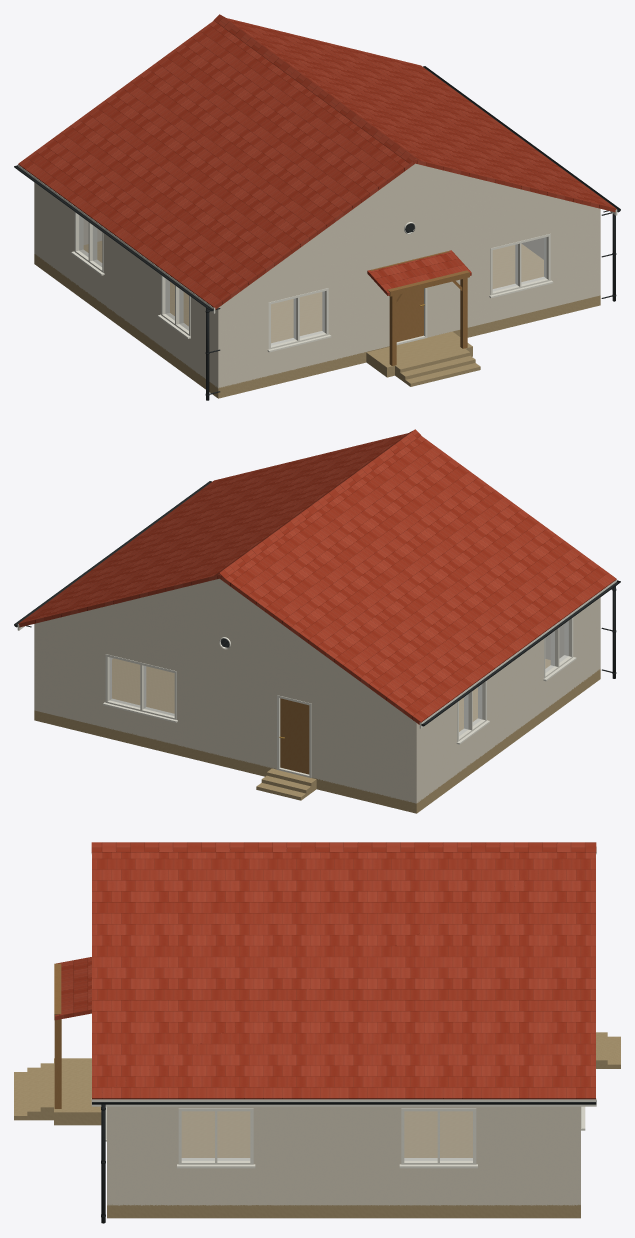
Rendered from bungalow_far.glb.
3 renders of one model, top to bottom at view 1: azimuth 30°, elevation 25°; view 2: azimuth 150°, elevation 25°; view 3: azimuth 270°, elevation 25°, orthographic. The views are drawn at different scales.
Visible parts, largest first — view 1: Main roof closed pitched roof slab, Main house hollow wall shell with actual openings, Grounded continuous foundation and floor, Main roof finite ridge cap, Main house Front right window finite glazing, Main house Front left window finite glazing, Porch closed pitched canopy, Porch grounded landing, Main house Front entrance closed finite door leaf, Main house Front left window finite seated frame, Main house Front right window finite seated frame, Main house left window 1 finite seated frame (+12 smaller); view 2: Main roof closed pitched roof slab, Main house hollow wall shell with actual openings, Grounded continuous foundation and floor, Main house Rear picture window finite glazing, Main roof finite ridge cap, Main house Rear garden door closed finite door leaf, Main house Rear picture window finite seated frame, Main house left window 0 finite seated frame, Main house left window 1 finite seated frame, Eaves -1 open finite gutter with outlet, Main house Rear garden door finite seated frame, Main house left window 0 finite glazing (+3 smaller); view 3: Main roof closed pitched roof slab, Main house hollow wall shell with actual openings, Grounded continuous foundation and floor, Main roof finite ridge cap, Main house right window 1 finite glazing, Main house right window 0 finite glazing, Main roof seated eave fascia 1, Porch grounded landing, Porch closed pitched canopy, Eaves 1 open finite gutter with outlet, Main house right window 0 finite seated frame, Main house right window 1 finite seated frame (+5 smaller).
Part boxes in pixels (x1=…): Main roof closed pitched roof slab: x1=18, y1=18, x2=616, y2=309; Main house hollow wall shell with actual openings: x1=34, y1=163, x2=600, y2=388; Grounded continuous foundation and floor: x1=34, y1=223, x2=600, y2=398; Main roof finite ridge cap: x1=213, y1=14, x2=421, y2=164; Main house Front right window finite glazing: x1=493, y1=237, x2=546, y2=291; Main house Front left window finite glazing: x1=271, y1=291, x2=324, y2=345; Porch closed pitched canopy: x1=367, y1=250, x2=471, y2=295; Porch grounded landing: x1=366, y1=331, x2=472, y2=377; Main house Front entrance closed finite door leaf: x1=396, y1=288, x2=423, y2=341; Main house Front left window finite seated frame: x1=268, y1=288, x2=328, y2=349; Main house Front right window finite seated frame: x1=490, y1=233, x2=550, y2=295; Main house left window 1 finite seated frame: x1=74, y1=212, x2=103, y2=272; Main roof closed pitched roof slab: x1=18, y1=433, x2=616, y2=724; Main house hollow wall shell with actual openings: x1=34, y1=578, x2=600, y2=803; Grounded continuous foundation and floor: x1=34, y1=658, x2=600, y2=813; Main house Rear picture window finite glazing: x1=110, y1=657, x2=174, y2=715; Main roof finite ridge cap: x1=213, y1=429, x2=421, y2=579; Main house Rear garden door closed finite door leaf: x1=280, y1=698, x2=309, y2=774; Main house Rear picture window finite seated frame: x1=105, y1=654, x2=176, y2=719; Main house left window 0 finite seated frame: x1=544, y1=617, x2=573, y2=678; Main house left window 1 finite seated frame: x1=457, y1=681, x2=486, y2=741; Eaves -1 open finite gutter with outlet: x1=423, y1=581, x2=620, y2=725; Main house Rear garden door finite seated frame: x1=277, y1=695, x2=311, y2=777; Main house left window 0 finite glazing: x1=545, y1=621, x2=568, y2=672; Main roof closed pitched roof slab: x1=92, y1=852, x2=595, y2=1099; Main house hollow wall shell with actual openings: x1=107, y1=1106, x2=580, y2=1205; Grounded continuous foundation and floor: x1=107, y1=1111, x2=580, y2=1218; Main roof finite ridge cap: x1=91, y1=842, x2=596, y2=852; Main house right window 1 finite glazing: x1=404, y1=1111, x2=472, y2=1160; Main house right window 0 finite glazing: x1=182, y1=1111, x2=249, y2=1160; Main roof seated eave fascia 1: x1=91, y1=1098, x2=596, y2=1106; Porch grounded landing: x1=54, y1=1058, x2=101, y2=1125; Porch closed pitched canopy: x1=55, y1=957, x2=91, y2=1020; Eaves 1 open finite gutter with outlet: x1=92, y1=1102, x2=595, y2=1104; Main house right window 0 finite seated frame: x1=178, y1=1108, x2=253, y2=1164; Main house right window 1 finite seated frame: x1=401, y1=1108, x2=476, y2=1164.
Bounding box in the file's own units: 12.9 × 5.96 × 12.81.
8 materials, 7 textured.
